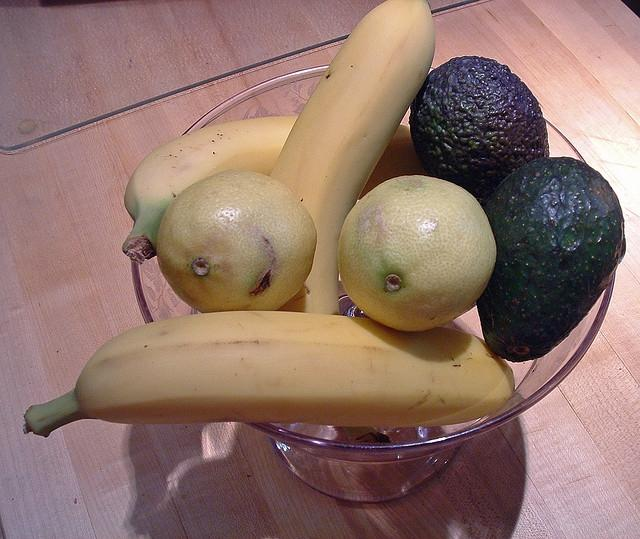avocado: (476, 158, 626, 362), (410, 55, 550, 221)
banana: (22, 310, 515, 438), (269, 2, 436, 314), (122, 116, 430, 264)
lemon: (338, 175, 497, 331), (156, 169, 318, 312)
